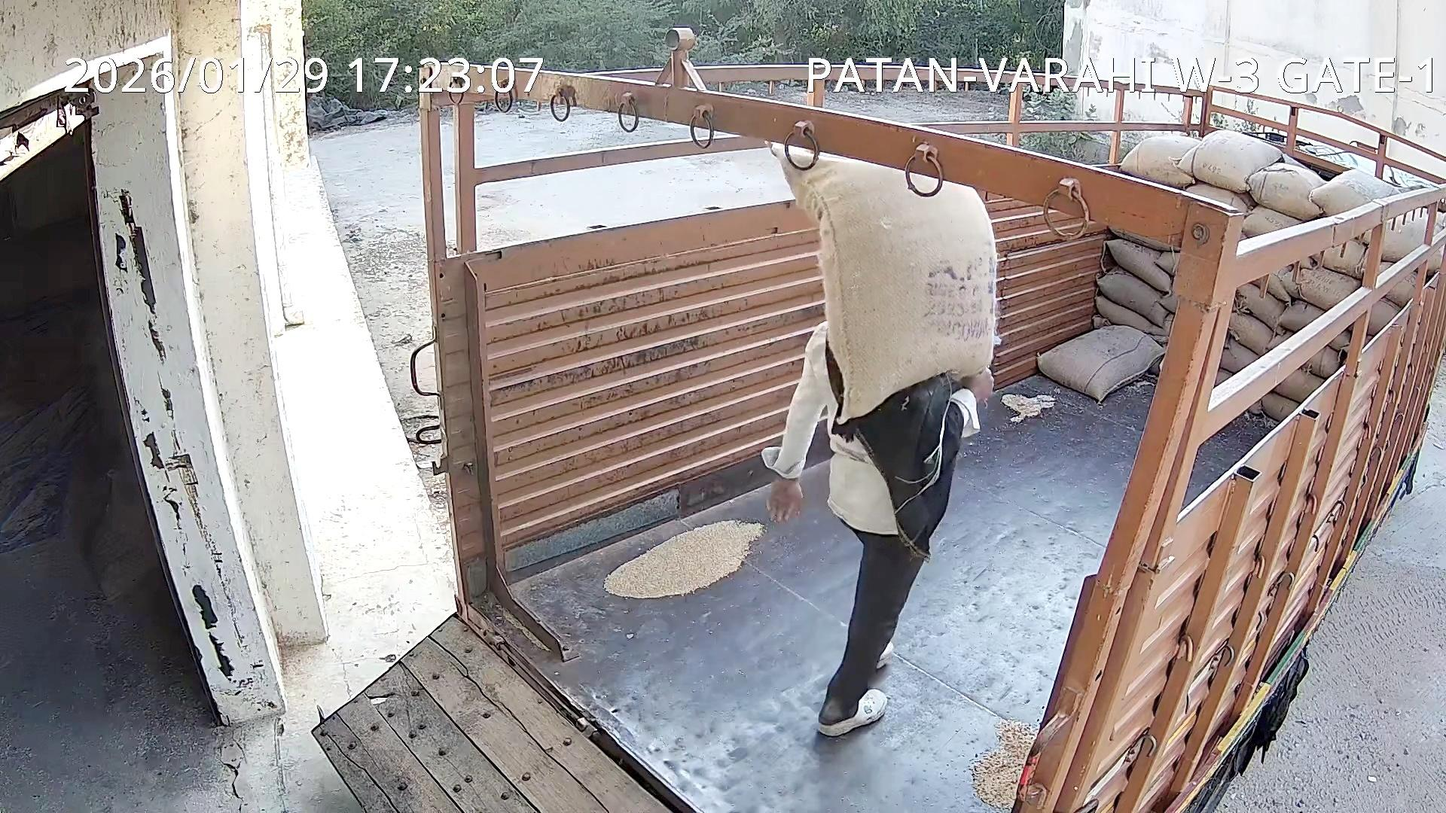Sack: (770, 145, 998, 418)
